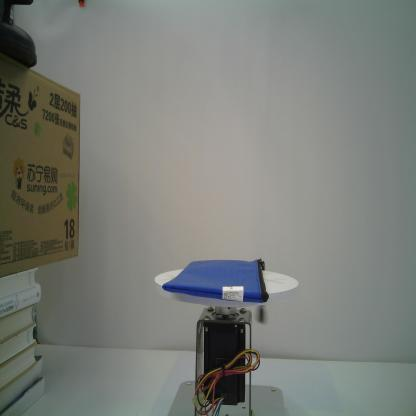Stationery: (160, 256, 270, 326)
